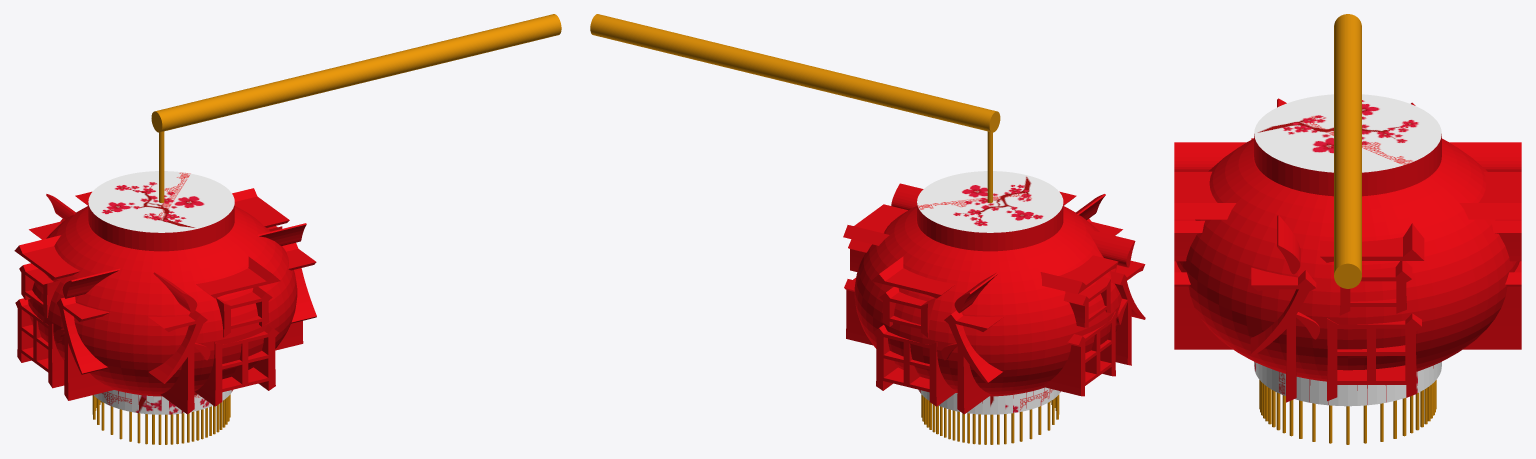
3 views of the same model, side by side, from view 1: azimuth 30°, elevation 25°; view 2: azimuth 150°, elevation 25°; view 3: azimuth 270°, elevation 25° (orthographic). The views are drawn at different scales.
Visible parts, largest first — view 1: 未命名(1), 未命名(1).001, 未命名(1).002; view 2: 未命名(1), 未命名(1).001, 未命名(1).002; view 3: 未命名(1), 未命名(1).001, 未命名(1).002.
Boxes of the visible parts, box(x1,y1,x2,y2) form: 未命名(1): box(14, 171, 316, 414); 未命名(1).001: box(151, 14, 561, 202); 未命名(1).002: box(92, 394, 230, 444); 未命名(1): box(843, 171, 1145, 414); 未命名(1).001: box(590, 14, 1000, 202); 未命名(1).002: box(921, 394, 1059, 444); 未命名(1): box(1174, 94, 1521, 406); 未命名(1).001: box(1334, 14, 1361, 288); 未命名(1).002: box(1259, 380, 1436, 444).
Size of the model in its own units: 2180 by 1240 by 1000.
4 materials, 2 textured.
